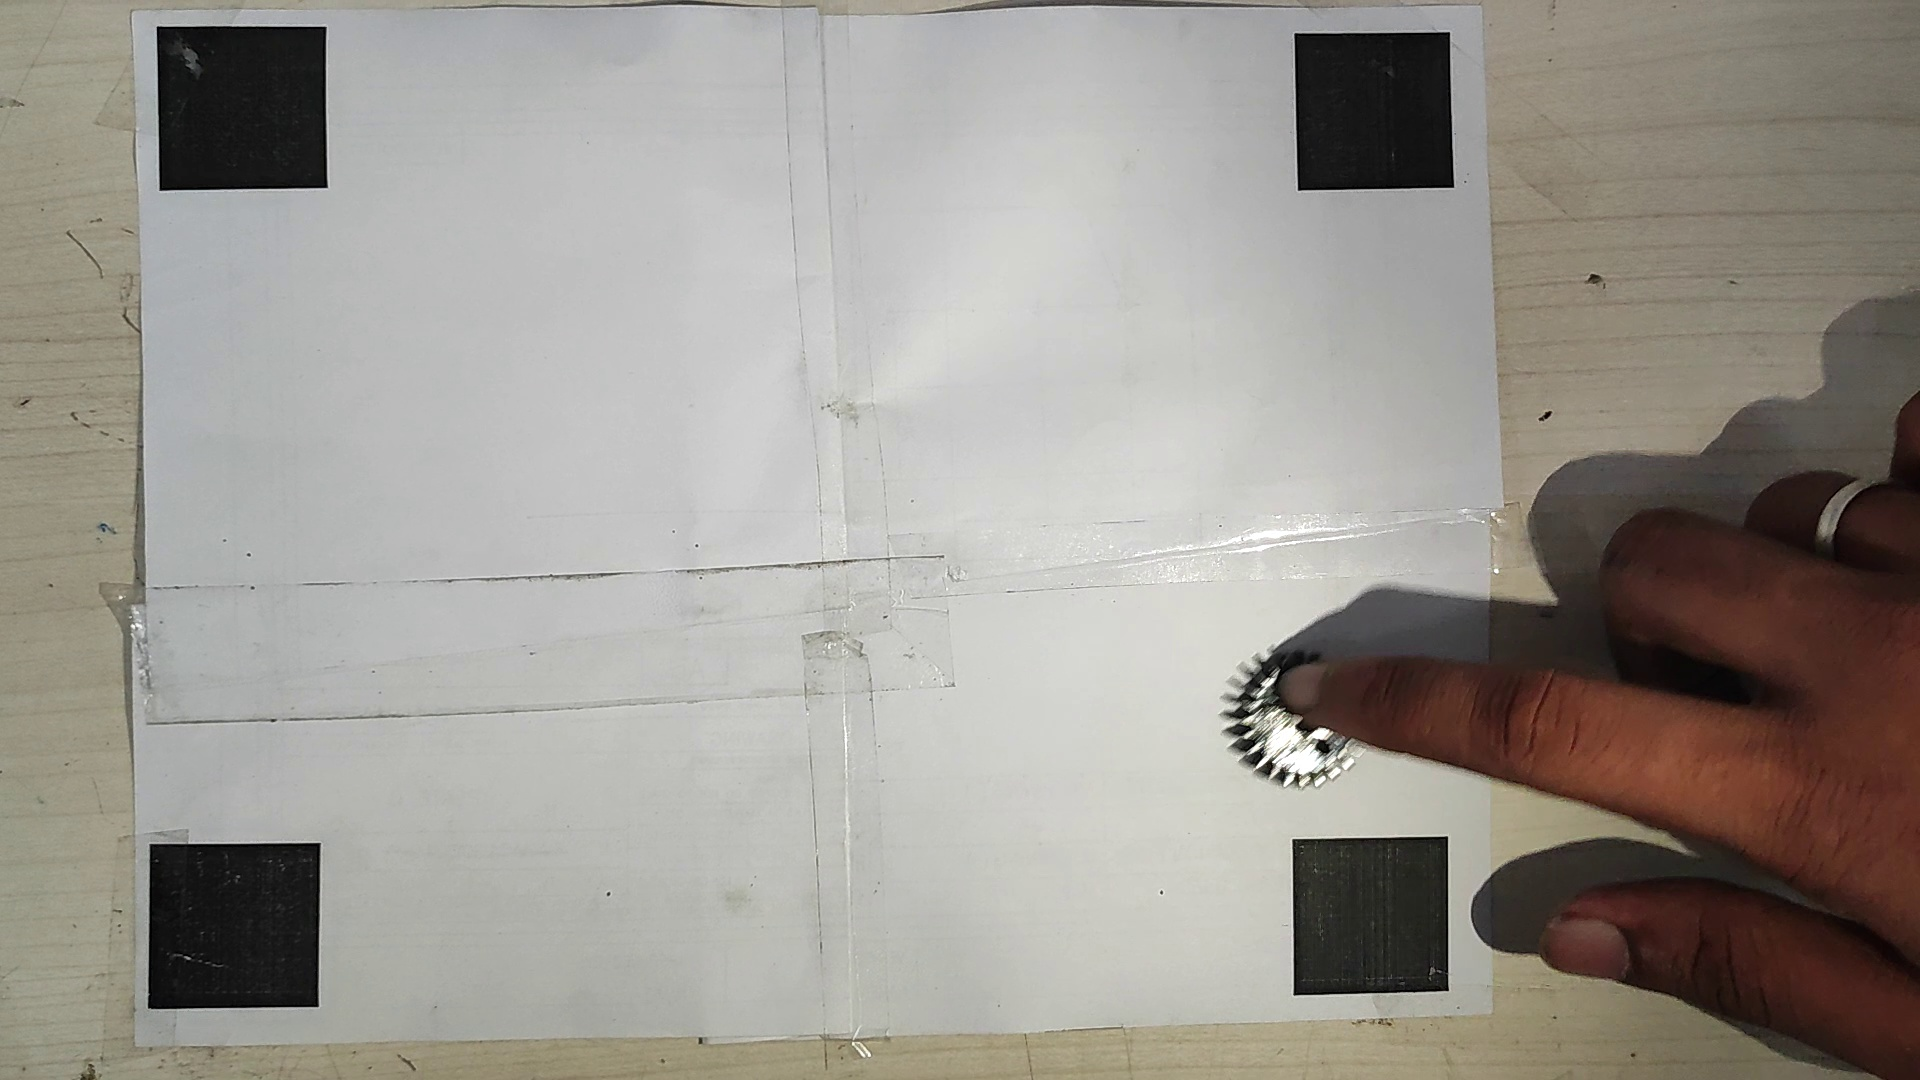Gear: (1216, 637, 1363, 794)
